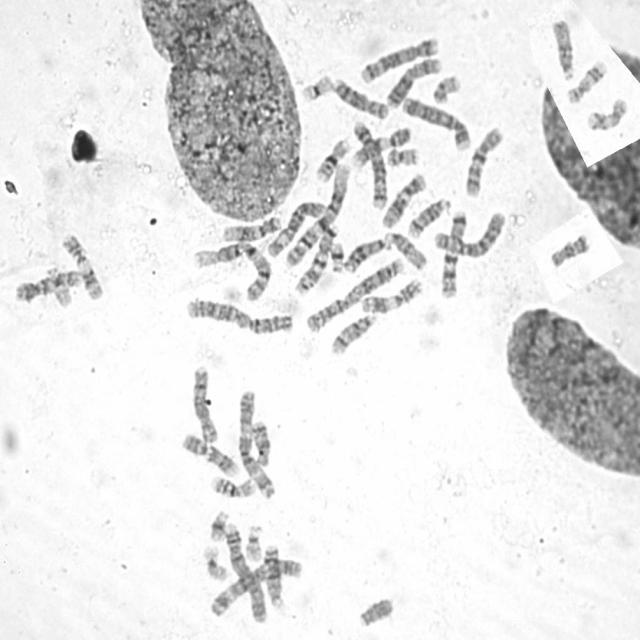A1: (281, 158, 353, 268), (190, 240, 274, 303)
A2: (304, 254, 406, 334), (183, 295, 295, 335)
A3: (207, 561, 295, 618), (235, 387, 278, 500)
B4: (222, 520, 270, 624), (400, 92, 472, 152)
B5: (358, 40, 441, 84), (350, 118, 388, 212)
C10: (10, 270, 88, 308), (464, 124, 503, 199)
C11: (59, 230, 100, 302), (358, 276, 423, 316)
C12: (379, 170, 428, 230), (220, 212, 282, 243)
C6: (430, 208, 505, 260), (264, 200, 326, 259)
C7: (292, 221, 340, 297), (438, 208, 470, 298)
C8: (188, 363, 222, 444), (330, 78, 390, 121)
C9: (179, 431, 241, 478), (349, 128, 408, 170)
D13: (341, 240, 391, 274), (264, 546, 286, 612)
D14: (405, 195, 452, 239), (327, 317, 375, 355)
D15: (382, 226, 432, 272), (552, 17, 576, 82)
E16: (312, 140, 352, 184), (208, 472, 255, 494)
E17: (564, 57, 612, 104), (584, 100, 626, 133)
E18: (548, 230, 590, 269), (249, 418, 273, 469)
F19: (199, 544, 230, 583), (298, 73, 334, 104)
F20: (384, 142, 419, 169), (430, 76, 460, 105)
G21: (208, 508, 231, 542), (327, 238, 345, 274)
G22: (45, 266, 73, 310), (242, 522, 258, 563)
X: (383, 57, 442, 110)
Y: (356, 594, 394, 628)
